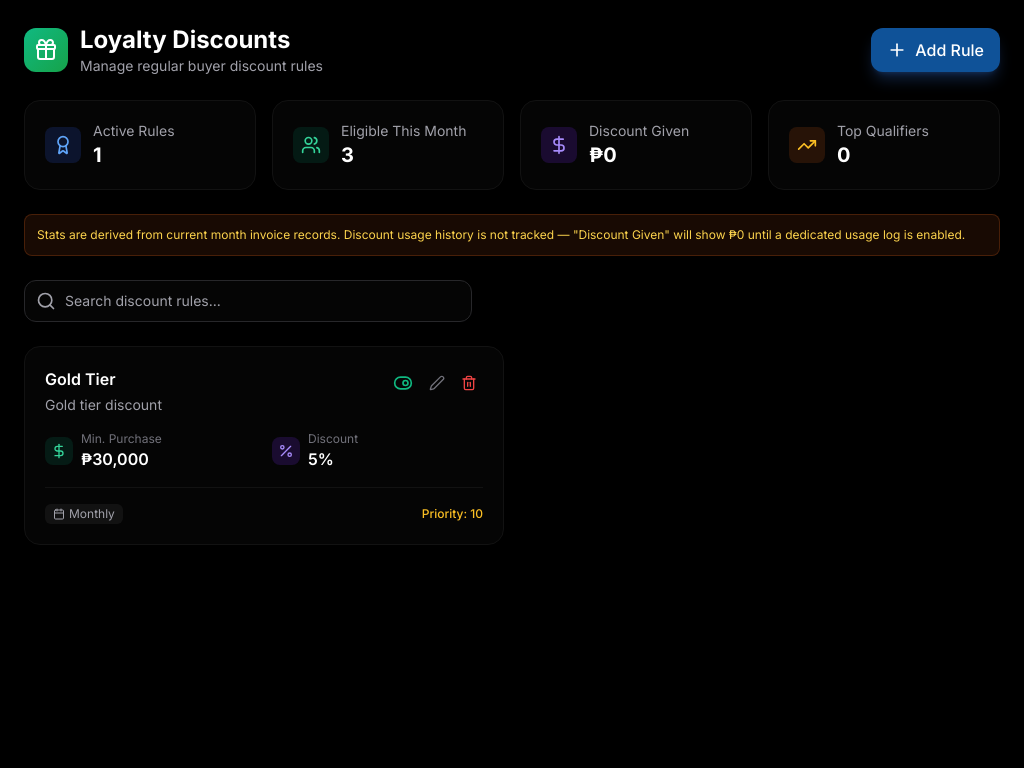
LoyaltyDiscountRulesView › shows date range inputs when date range type is selected
The image size is (1024, 768).
Check: the heading "Gold Tier" is shown, box [45, 369, 116, 389]
Click the button "Add Rule".
click(936, 50)  # box [871, 28, 1000, 72]
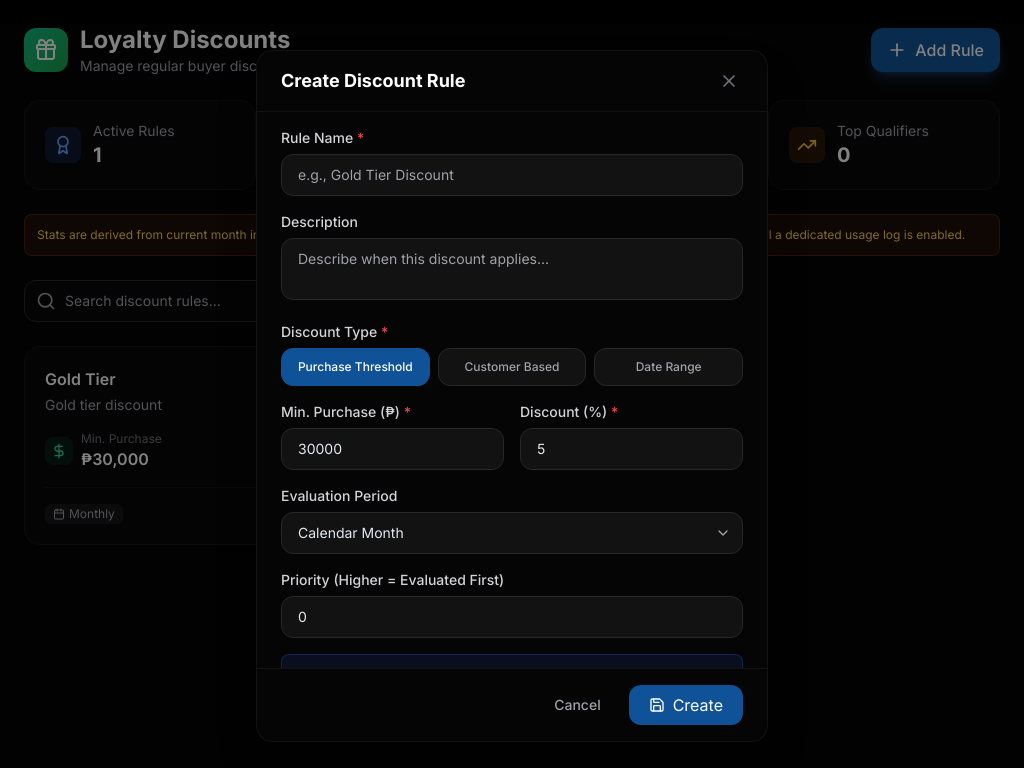
Check: the heading "Create Discount Rule" is shown, box [281, 67, 465, 95]
Click the button "Date Range".
click(669, 367)  # box [594, 348, 743, 386]
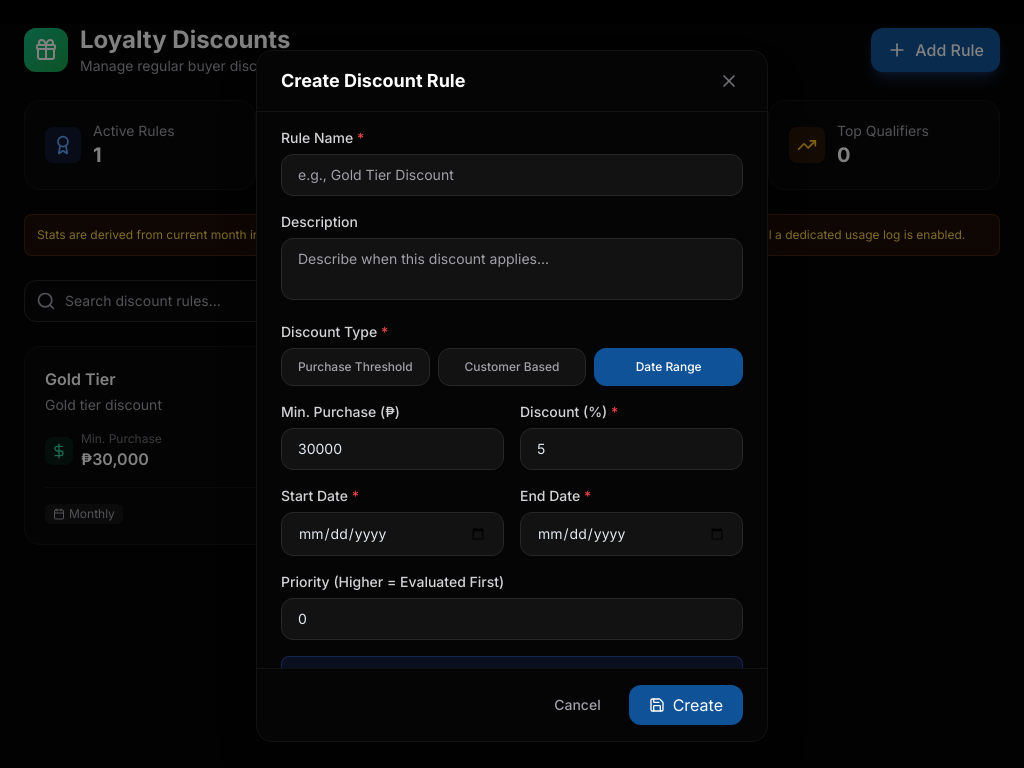
Check: the number of date fields is 2, box [281, 512, 504, 556]; [520, 512, 743, 556]
